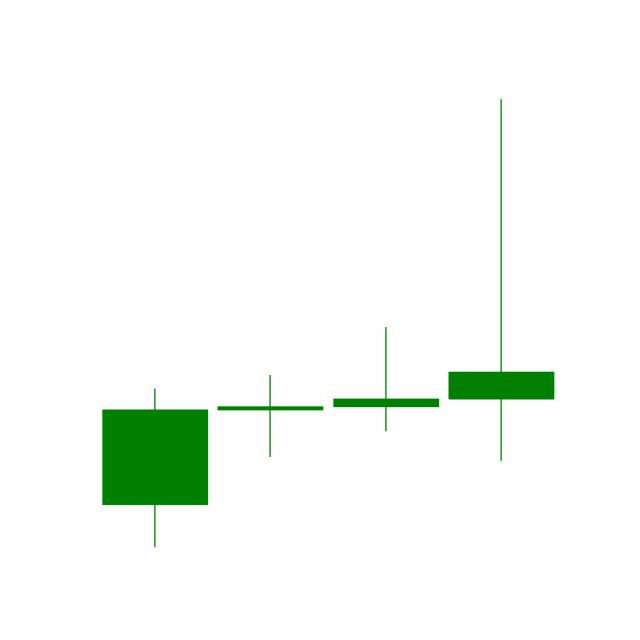Spinning Top: (443, 94, 559, 464)
